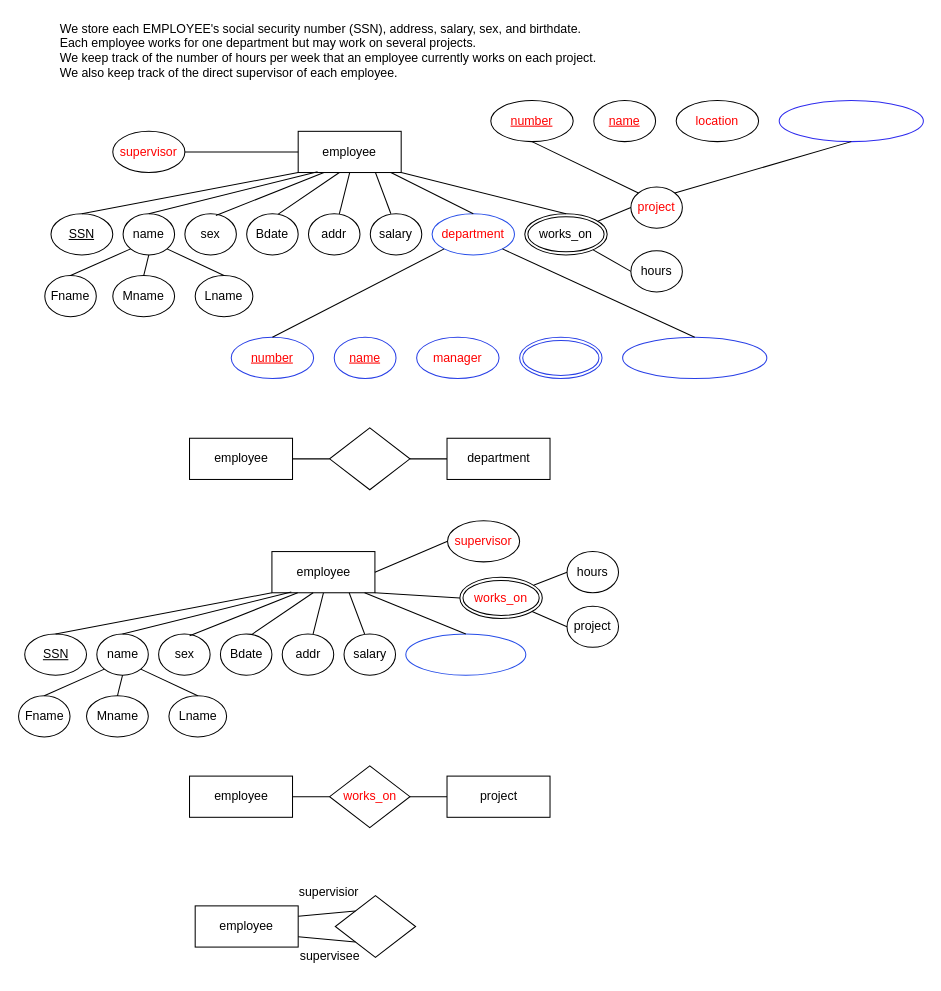
Some shapes in this 941 by 991 pixel diagram are drawn without their labels. Each missing label, with the centre of its shape:
"controlling_department" goes at (x=850, y=120).
"department_number" goes at (x=465, y=654).
"locations" goes at (x=560, y=357).
"manager_start_date" goes at (x=694, y=357).
"supersion" goes at (x=375, y=926).
"works_for" goes at (x=369, y=458).
